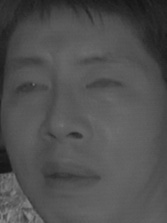eye: (82, 71, 122, 94), (12, 78, 49, 97)
mouth: (35, 153, 102, 195)
